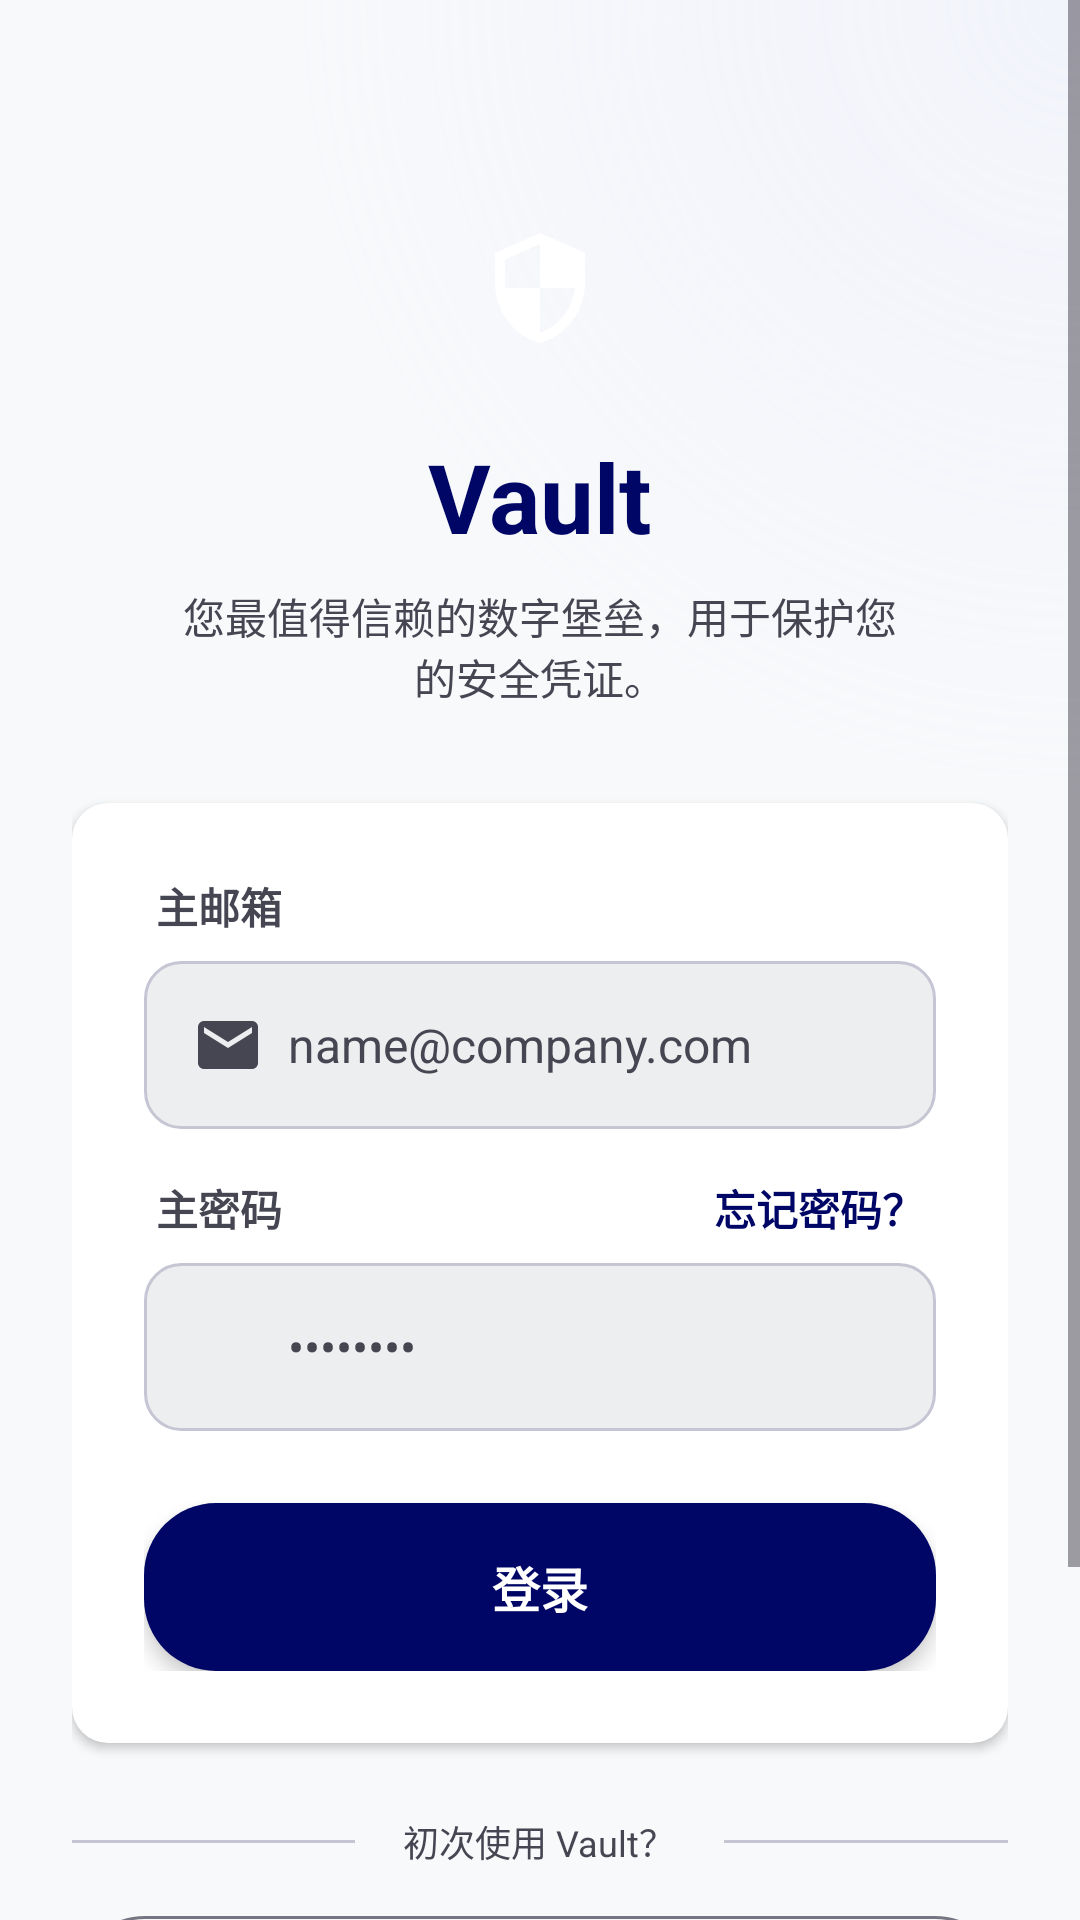

Where to tap for icons on this 1080x1920 app screen, as [x,y]:
mail: [228,1045]
